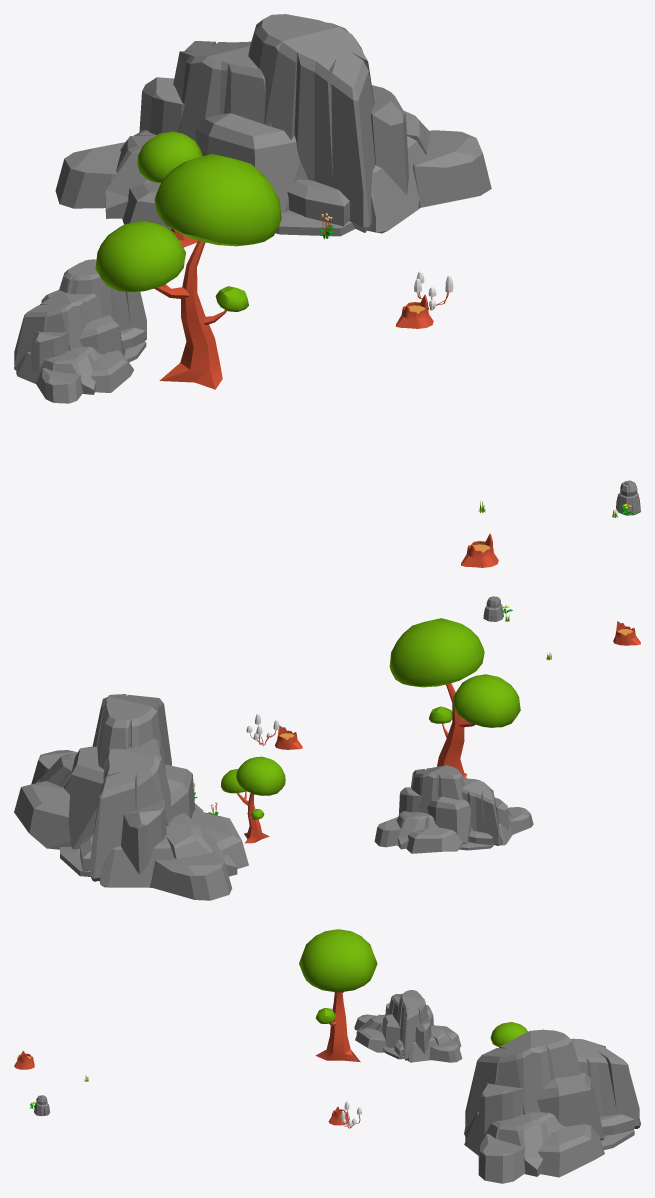
The model's file is BackGround_3.fbx.
3 renders of one model, top to bottom at view 1: azimuth 30°, elevation 25°; view 2: azimuth 150°, elevation 25°; view 3: azimuth 270°, elevation 25°, orthographic. The views are drawn at different scales.
Parts seen in each view (by area): view 1: stone1, tree2, stone, tree3, Tree2, Tree1; view 2: stone1, tree2, stone, tree3, Tree2, Tree1; view 3: stone1, tree2, stone, tree3.
Part boxes in pixels (x1,y1,x2,y2): stone1: (55, 14, 491, 236); tree2: (95, 154, 281, 389); stone: (14, 259, 146, 403); tree3: (137, 131, 202, 247); Tree2: (461, 533, 498, 567); Tree1: (396, 294, 433, 328); stone1: (14, 694, 248, 900); tree2: (389, 618, 520, 778); stone: (374, 765, 533, 853); tree3: (220, 756, 285, 843); Tree2: (613, 621, 640, 645); Tree1: (275, 725, 302, 749); stone1: (464, 1029, 640, 1183); tree2: (299, 929, 377, 1062); stone: (354, 990, 462, 1062); tree3: (490, 1022, 527, 1046).
Size of what is drawn, in the model's own units: 3265 by 1246 by 5262.
Materials: 1 (1 with a texture image).
